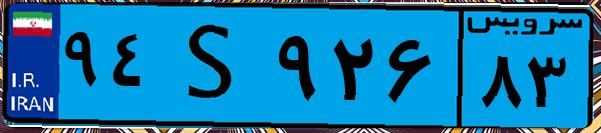2: (330, 28, 385, 110)
3: (525, 38, 570, 115)
4: (110, 28, 158, 98)
6: (385, 28, 445, 110)
8: (475, 38, 525, 113)
9: (270, 28, 330, 110), (57, 26, 110, 100)
S: (158, 12, 270, 120)
